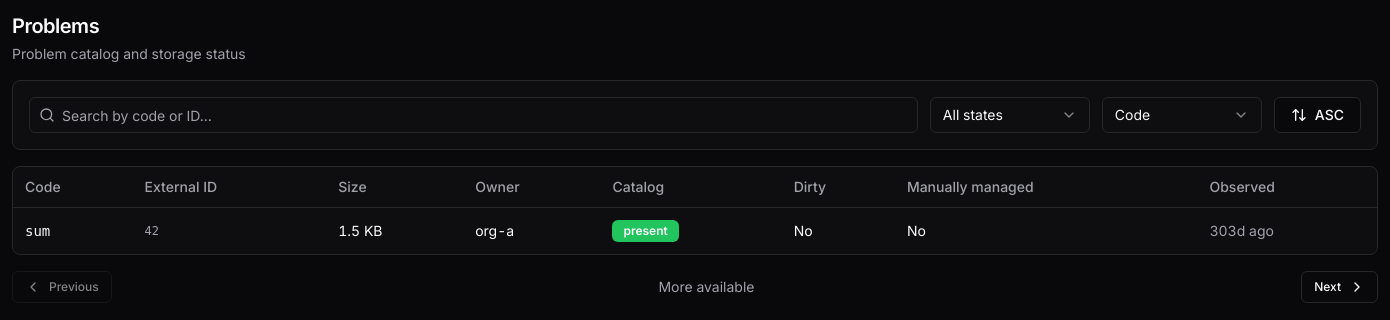
Test: dashboard page semantics › renders problem rows as hash links and sortable headers
This screenshot has width=1390, height=320.
expect the text "1.5 KB" is shown: met, box [326,207,463,254]
Click the button with aria-label "sort descending": [1317, 115] box [1274,97,1361,133]
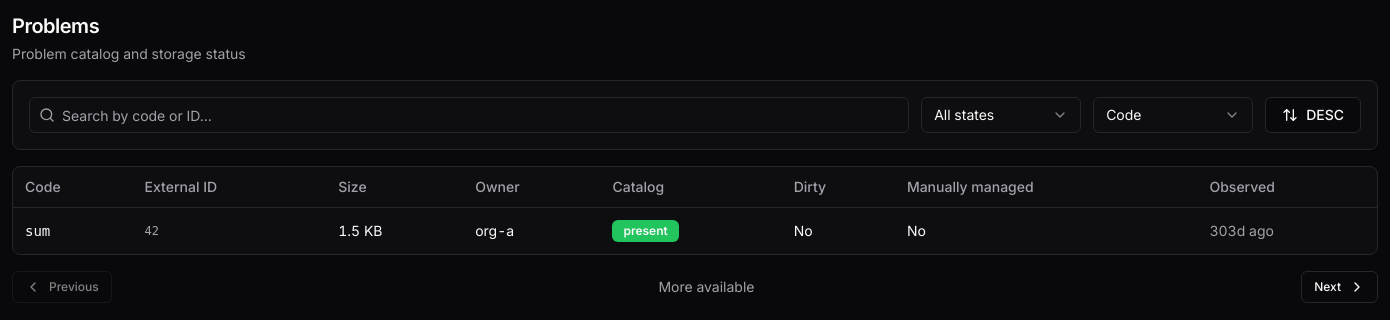
expect the button with aria-label "sort ascending" is shown: met, box [1265,97,1361,133]
